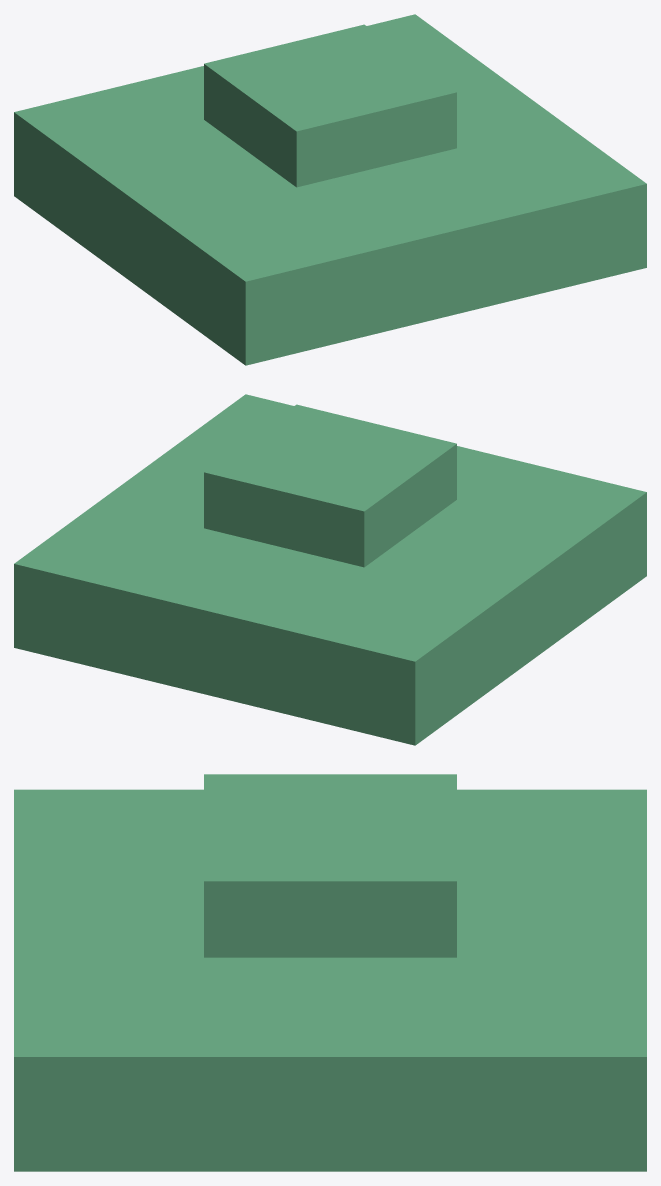
File: 02_chip.glb
The picture shows the model from 3 angles, top to bottom: view 1: azimuth 30°, elevation 25°; view 2: azimuth 150°, elevation 25°; view 3: azimuth 270°, elevation 25°; orthographic projection. The views are drawn at different scales.
Parts seen in each view (by area): view 1: computer_02_chip; view 2: computer_02_chip; view 3: computer_02_chip.
Part boxes in pixels (box(x1,y1,x2,y2)): computer_02_chip: box(14, 14, 646, 365); computer_02_chip: box(14, 394, 646, 745); computer_02_chip: box(14, 774, 646, 1171).
Bounding box in the file's own units: 0.3 × 0.11 × 0.3.
